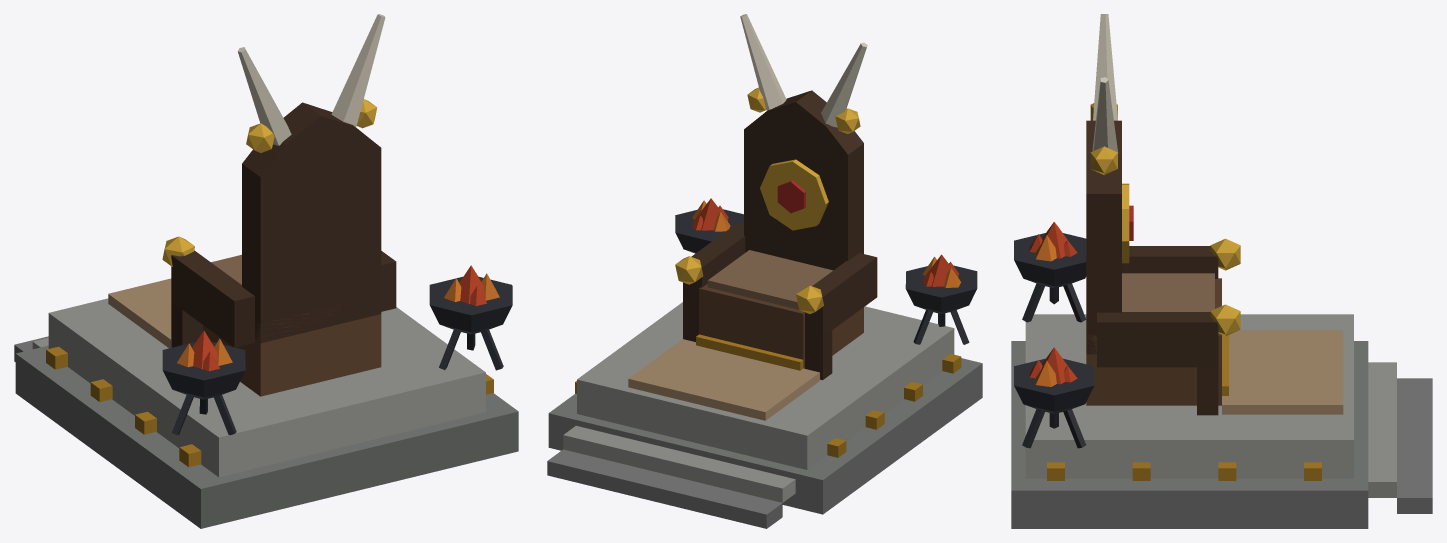
File: Decor_VikingLonghouse_Throne.fbx
3 renders of one model, left to right at view 1: azimuth 30°, elevation 25°; view 2: azimuth 150°, elevation 25°; view 3: azimuth 270°, elevation 25°, orthographic. The views are drawn at different scales.
Visible parts, largest first — view 1: Throne_Body; view 2: Throne_Body; view 3: Throne_Body.
Part boxes in pixels (x1,y1,x2,y2): Throne_Body: [14, 14, 518, 528]; Throne_Body: [547, 14, 982, 528]; Throne_Body: [1011, 14, 1432, 528].
Size of the model in its own units: 11 by 12.73 by 11.9.
